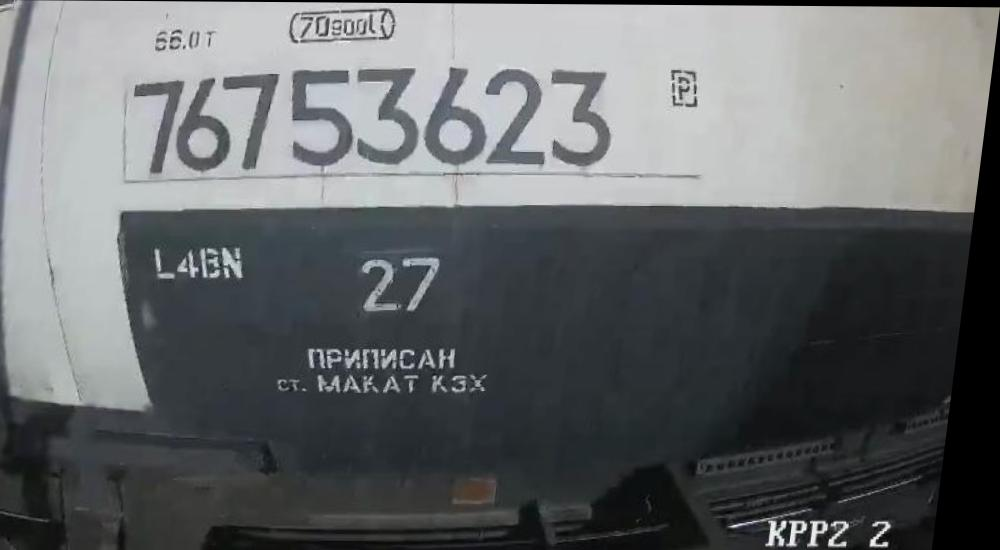Wagon-number: (119, 60, 628, 182)
